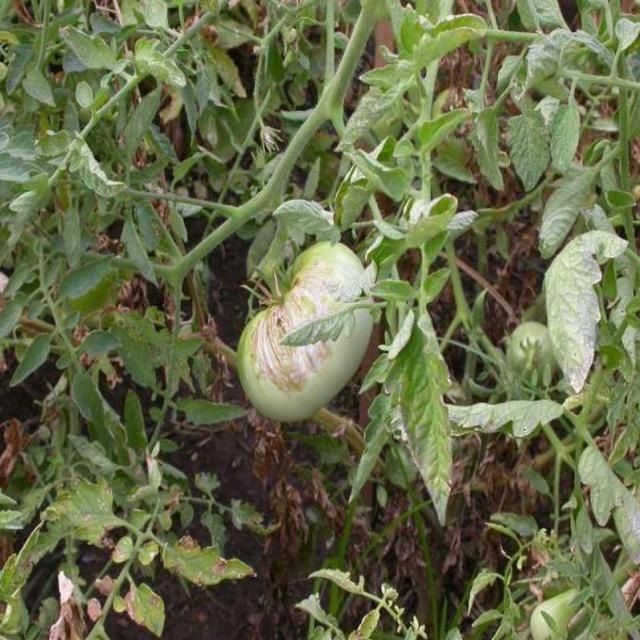Sunscald Fruit: (167, 168, 244, 265)
